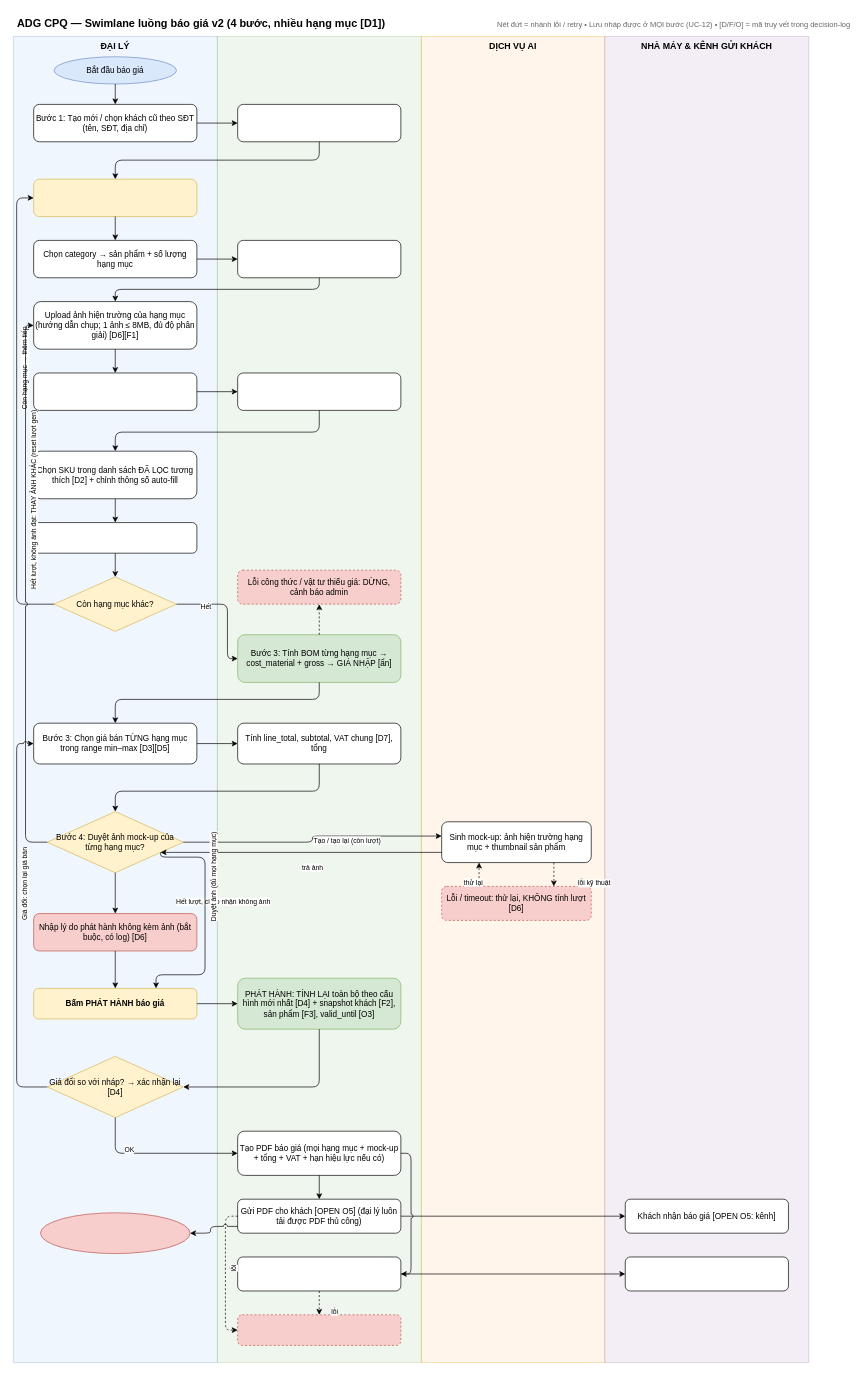
The diagram is 862 pixels wide and 1374 high, and some of its shapes have lost their labels. The box of each missing label's shape, as (x1, y1, x2, y2) in pixels:
Bước 2: THÊM HẠNG MỤC (lặp cho từng cửa / sản phẩm) [D1]: (33, 178, 197, 217)
Chạy điều kiện tương thích → LỌC SKU hợp lệ [D2] + auto-fill thông số linh kiện: (237, 372, 401, 410)
Gửi lỗi → failed → GỬI LẠI (UC-P4): (237, 1314, 401, 1345)
Gửi phiếu BOM sản xuất về nhà máy (gộp mọi hạng mục × SL) [OPEN O4]: (237, 1256, 401, 1291)
HỆ THỐNG CPQ: (217, 36, 421, 1362)
Kiểm tra & lưu nháp (khôi phục đúng bước đang dở — UC-12): (237, 104, 401, 142)
Kết thúc — status = submitted. GIÁ ĐÓNG BĂNG VĨNH VIỄN [D4]: (40, 1212, 190, 1254)
Nhà máy nhận & xử lý BOM [OPEN O4: quy trình]: (625, 1256, 788, 1291)
Nạp thông số / loại linh kiện / phụ kiện theo sản phẩm đã chọn: (237, 240, 401, 278)
Tick chọn phụ kiện (SL = 1): (33, 522, 197, 553)
Điền thông số dự án (freeform / dropdown): (33, 372, 197, 410)
